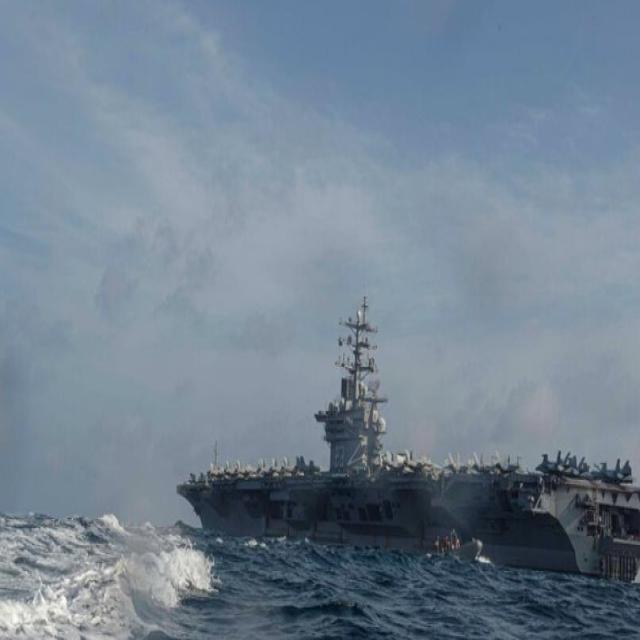navalvessels: (169, 295, 640, 589)
